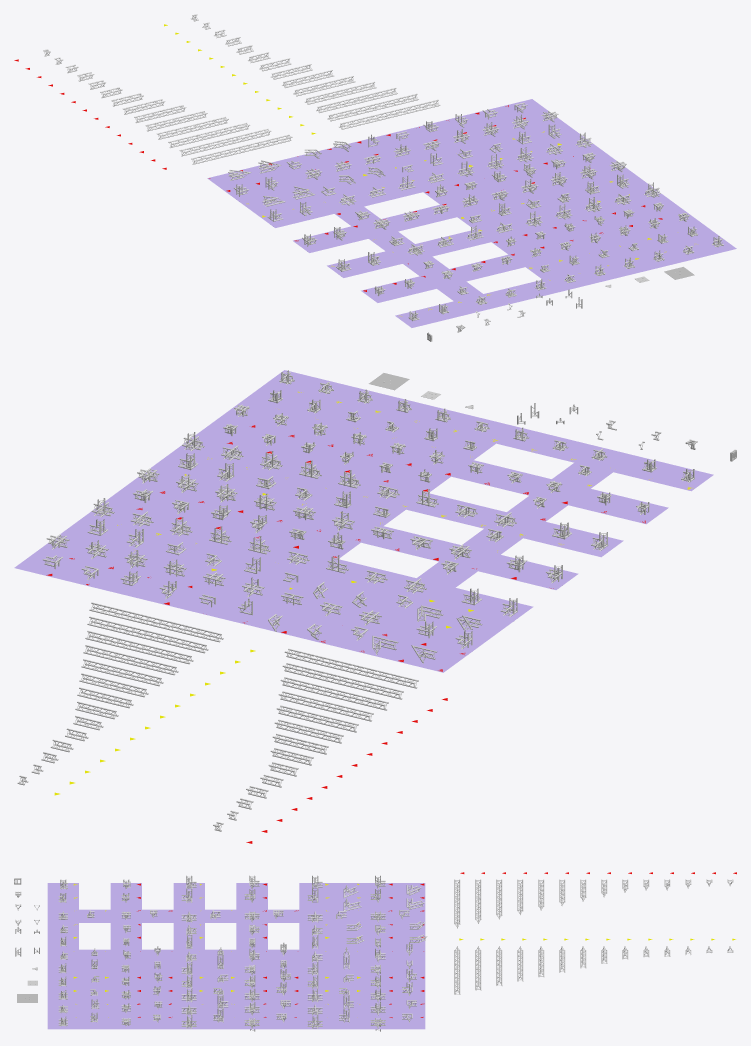
File: Prolyte_truss_H30D-5d244d72.glb
The picture shows the model from 3 angles, top to bottom: view 1: azimuth 30°, elevation 25°; view 2: azimuth 150°, elevation 25°; view 3: azimuth 270°, elevation 25°; orthographic projection. The views are drawn at different scales.
Parts seen in each view (by area): view 1: Geom3D (×5); view 2: Geom3D (×7); view 3: Geom3D (×7).
Part boxes in pixels (x1,y1,x2,y2): Geom3D (×5): (179, 93, 736, 327); Geom3D (×7): (14, 370, 713, 710); Geom3D (×7): (47, 872, 736, 1029).
Bounding box in the file's own units: 17.72 × 0.747 × 34.45.
